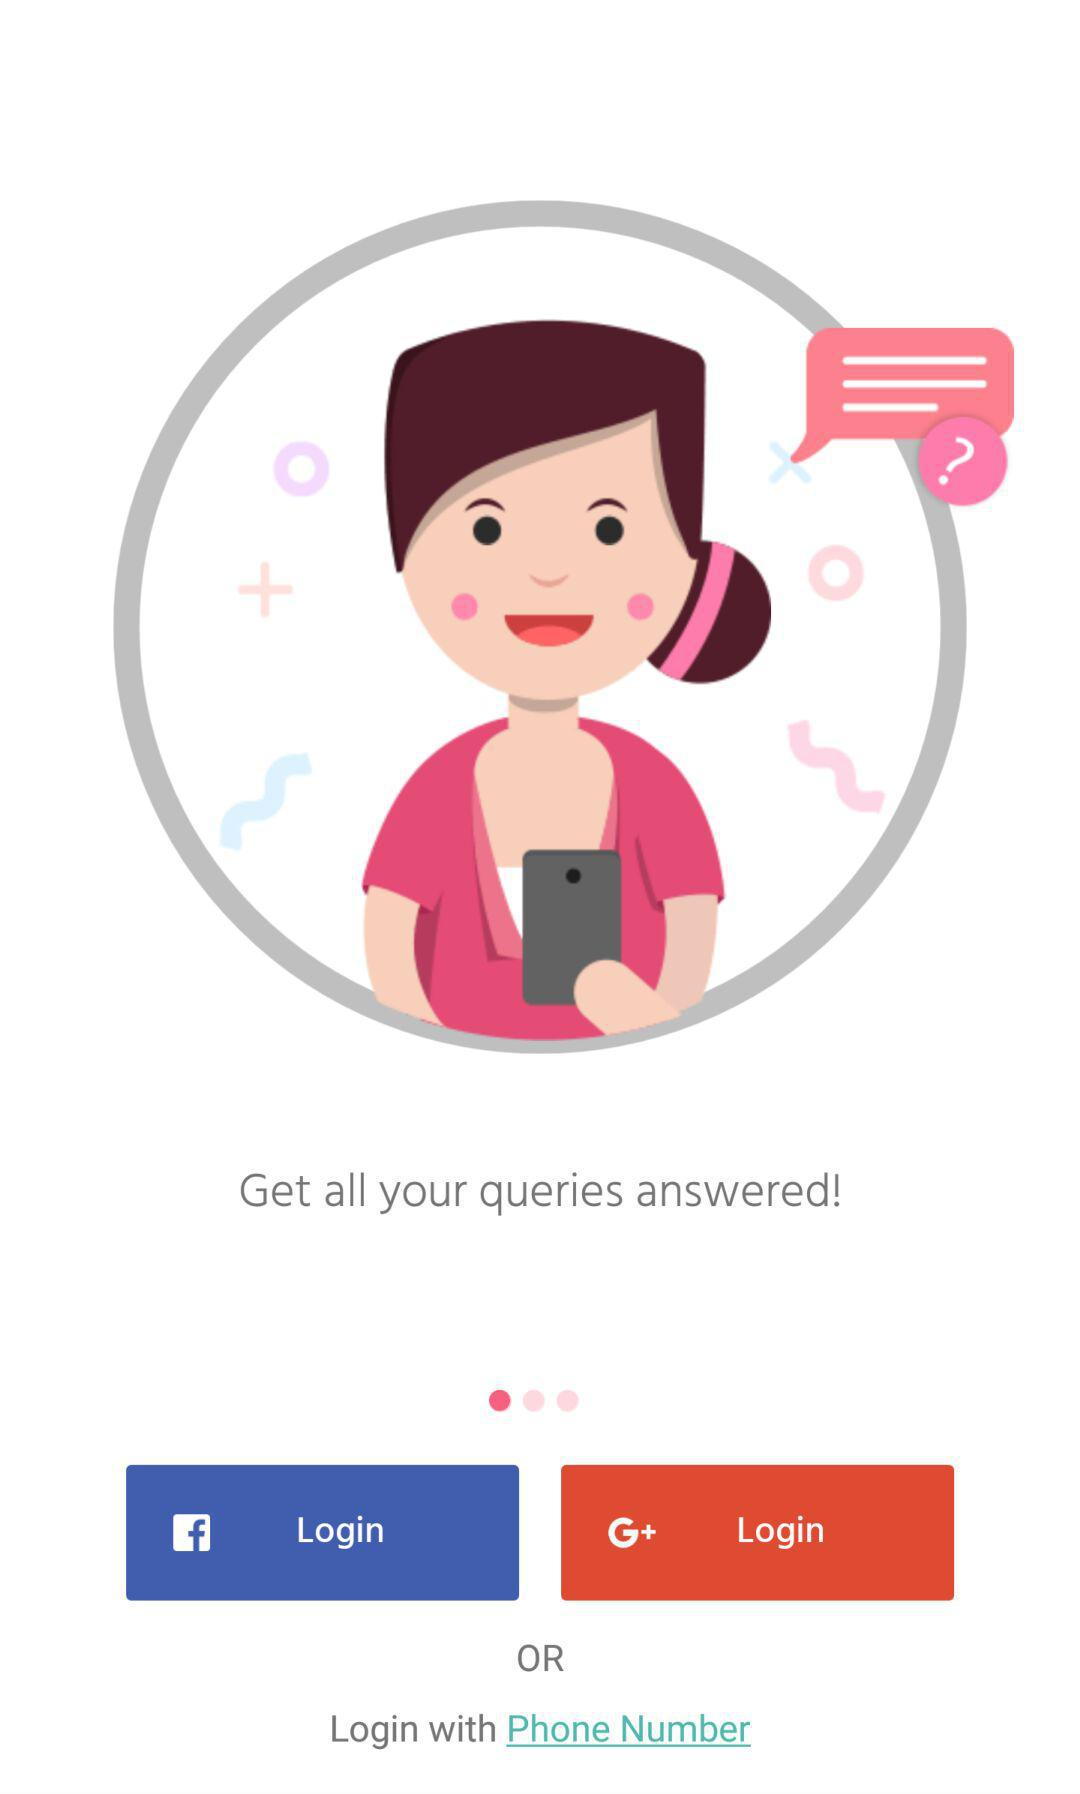Image: (111, 197, 1015, 1056)
PageIndicator: (488, 1388, 582, 1415)
Text: (240, 1170, 839, 1219), (331, 1713, 752, 1750), (518, 1643, 566, 1672)
TextButton: (126, 1463, 520, 1601), (561, 1463, 954, 1601)
